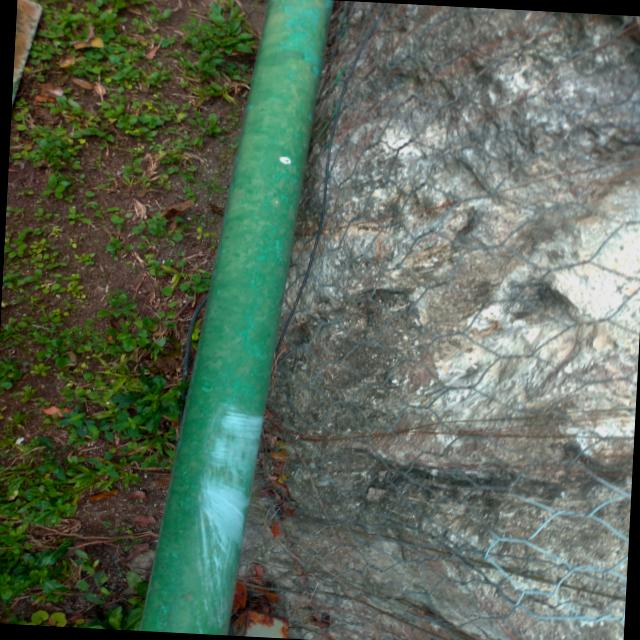gas: (141, 0, 333, 634)
